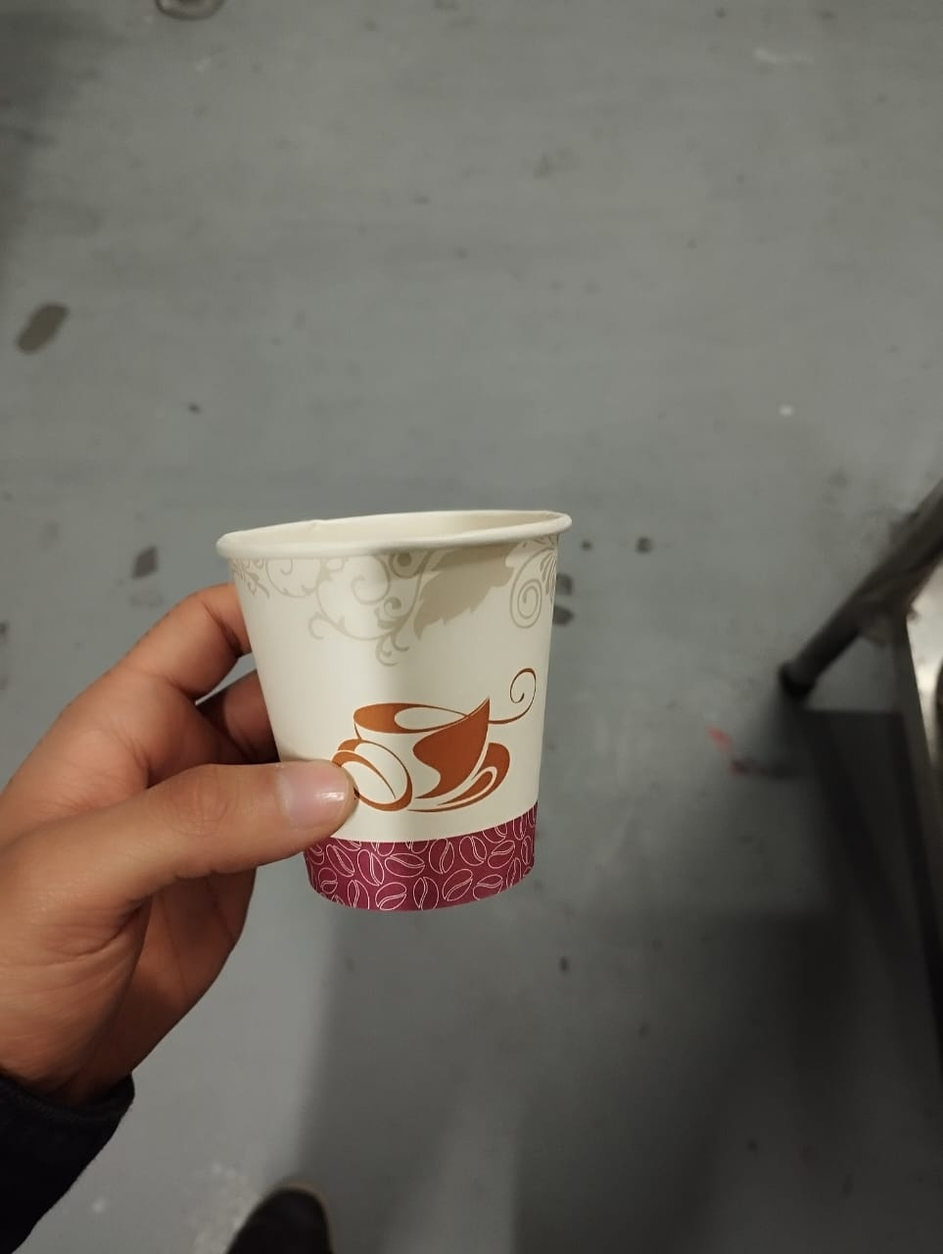Carton: (219, 511, 573, 909)
